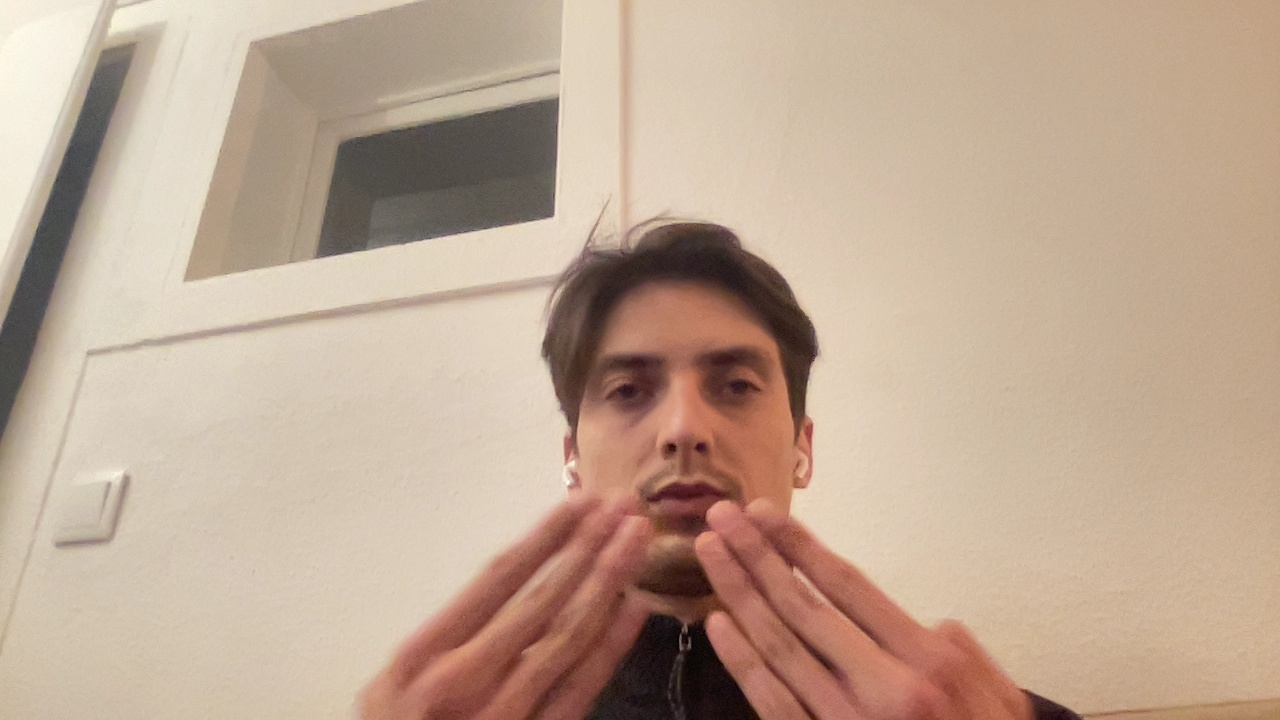Thank you: (683, 480, 1071, 720), (329, 473, 656, 720)
